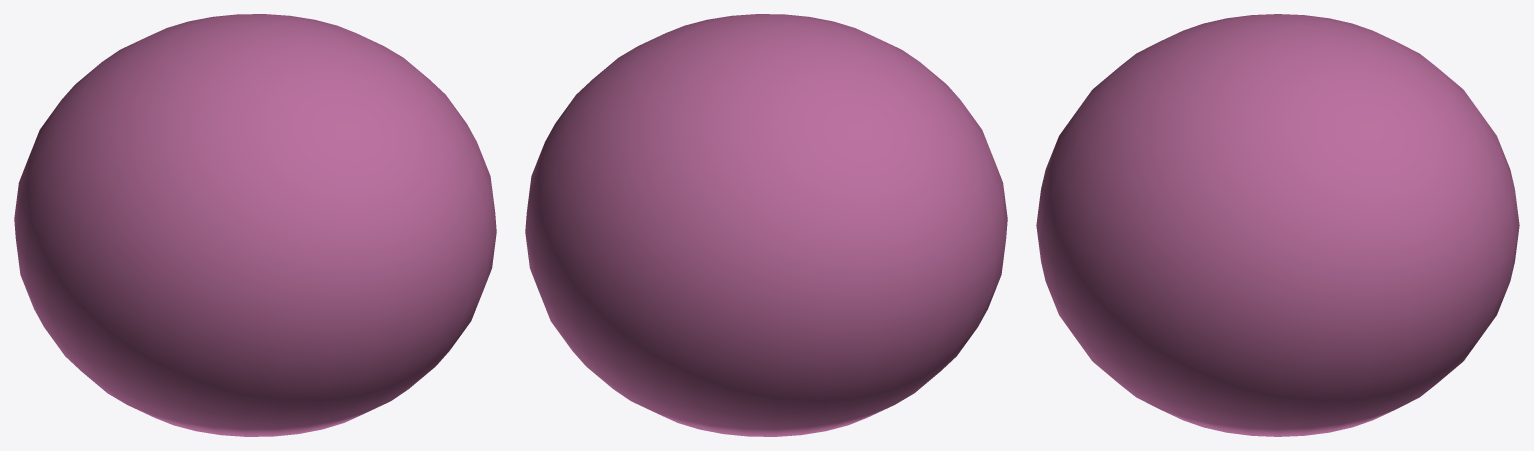
The model's file is aforo.dae.
The picture shows the model from 3 angles, left to right: view 1: azimuth 30°, elevation 25°; view 2: azimuth 150°, elevation 25°; view 3: azimuth 270°, elevation 25°; orthographic projection.
Parts seen in each view (by area): view 1: afuro; view 2: afuro; view 3: afuro.
Part boxes in pixels (x1,y1,x2,y2): afuro: [14, 14, 496, 436]; afuro: [525, 14, 1007, 436]; afuro: [1036, 14, 1519, 436].
Size of the model in its own units: 2 by 2 by 1.56.
